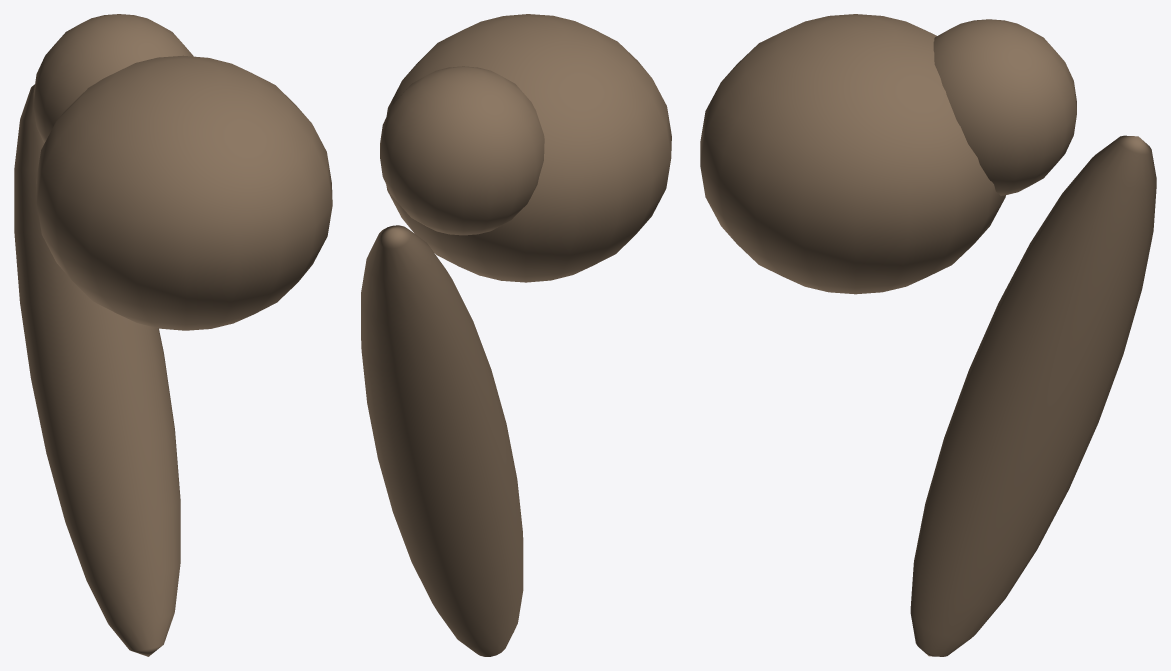
File: hair-pony.glb
3 renders of one model, left to right at view 1: azimuth 30°, elevation 25°; view 2: azimuth 150°, elevation 25°; view 3: azimuth 270°, elevation 25°, orthographic. The views are drawn at different scales.
Parts seen in each view (by area): view 1: Hair; view 2: Hair; view 3: Hair.
Part boxes in pixels (x1,y1,x2,y2): Hair: [14, 14, 332, 656]; Hair: [361, 14, 671, 656]; Hair: [700, 14, 1156, 656].
Bounding box in the file's own units: 0.24 × 0.5454 × 0.3588.
